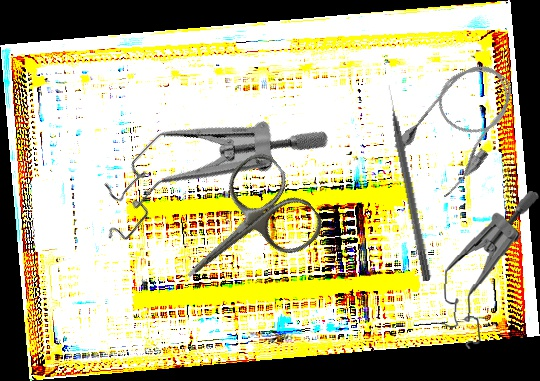Cannula: (388, 49, 533, 203)
Iris Scissors: (154, 145, 330, 317)
Pusher: (384, 83, 434, 282)
Speculum: (78, 47, 333, 302), (438, 188, 540, 352)
